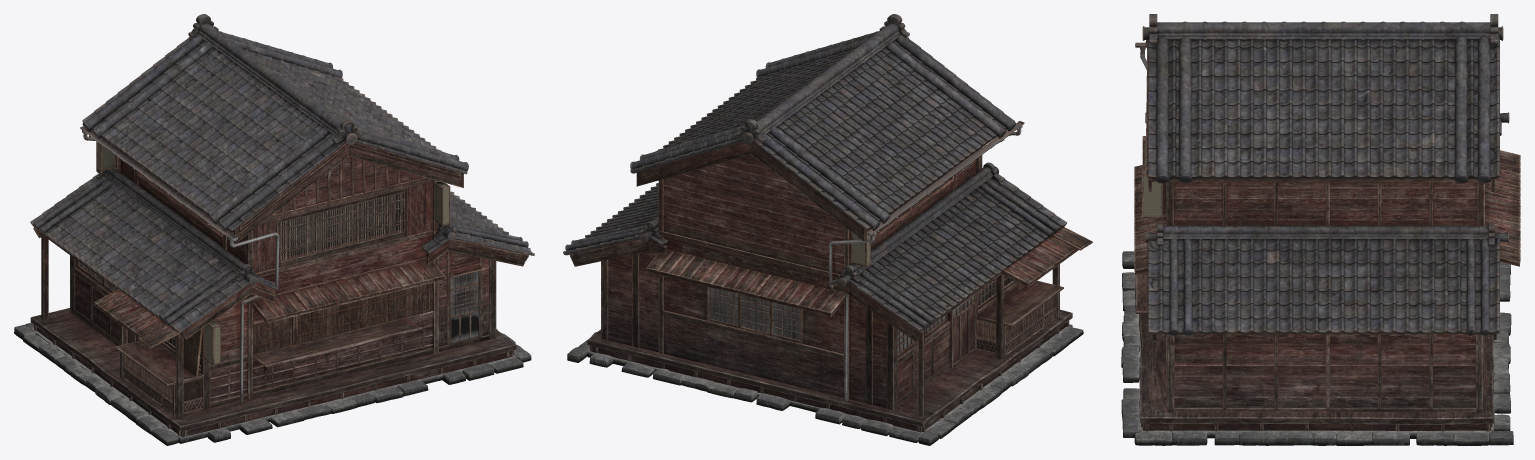
File: jphotel.glb
3 renders of one model, left to right at view 1: azimuth 30°, elevation 25°; view 2: azimuth 150°, elevation 25°; view 3: azimuth 270°, elevation 25°, orthographic. The views are drawn at different scales.
Visible parts, largest first — view 1: XI_JT_Hotel.Shape; view 2: XI_JT_Hotel.Shape; view 3: XI_JT_Hotel.Shape.
Boxes of the visible parts, x1,y1,x2,y2 form: XI_JT_Hotel.Shape: (14,14,534,445); XI_JT_Hotel.Shape: (563,14,1092,445); XI_JT_Hotel.Shape: (1121,14,1520,445).
Size of the model in its own units: 29.21 by 20 by 22.03.
Materials: 5 (5 with a texture image).
